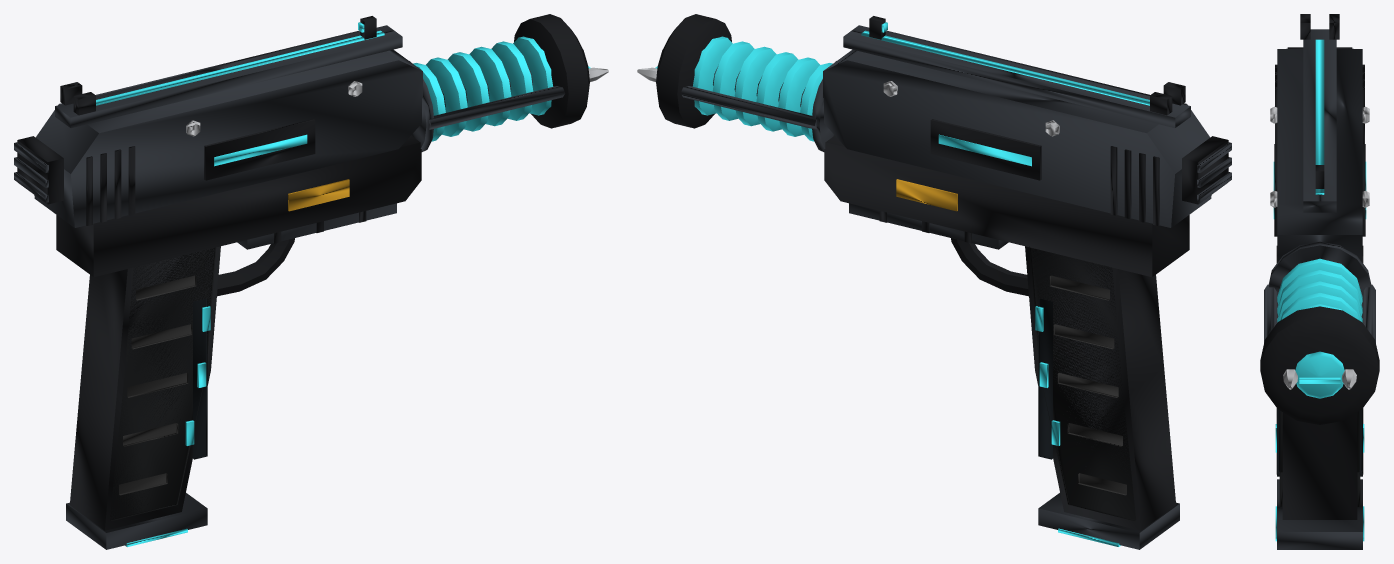
File: gear_neon_stunner.glb
3 views of the same model, side by side, from view 1: azimuth 30°, elevation 25°; view 2: azimuth 150°, elevation 25°; view 3: azimuth 270°, elevation 25° (orthographic). The views are drawn at different scales.
Parts seen in each view (by area): view 1: gear_neon_stunner; view 2: gear_neon_stunner; view 3: gear_neon_stunner.
Part boxes in pixels (box(x1,y1,x2,y2)): gear_neon_stunner: box(14, 14, 608, 549); gear_neon_stunner: box(637, 14, 1231, 549); gear_neon_stunner: box(1260, 14, 1379, 549).
Size of the model in its own units: 0.2788 by 0.2121 by 0.048.
